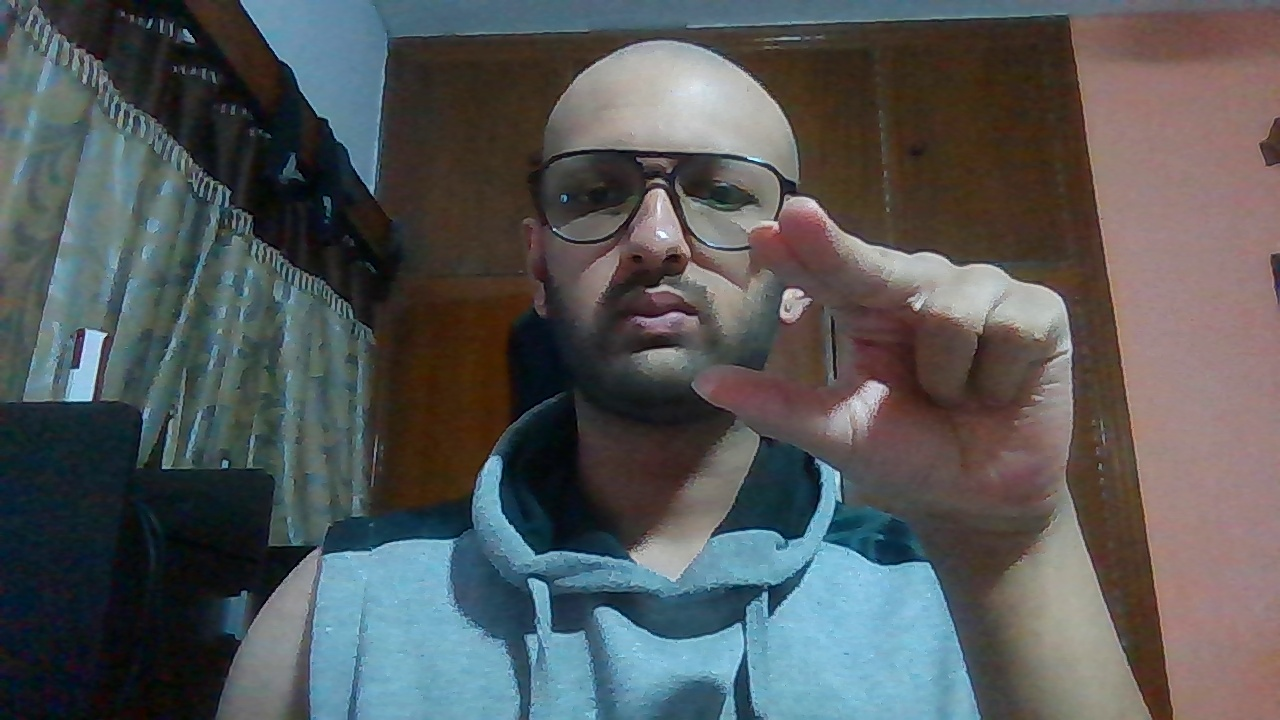No: (686, 194, 1080, 523)
